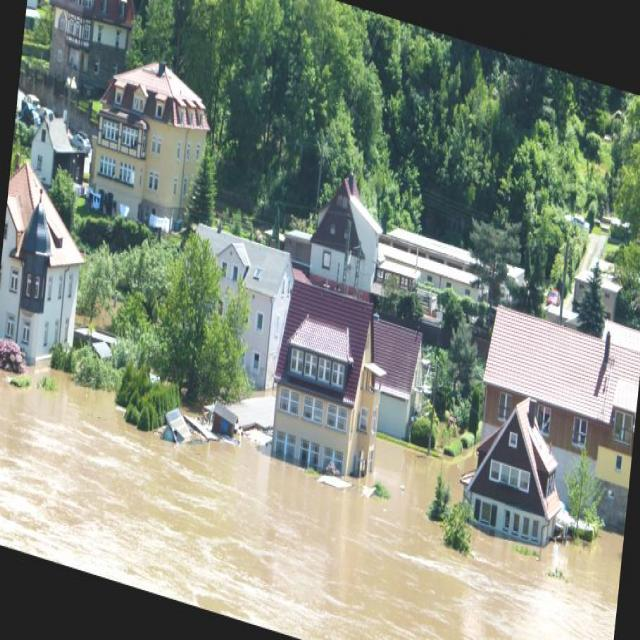flood: (0, 302, 627, 639)
